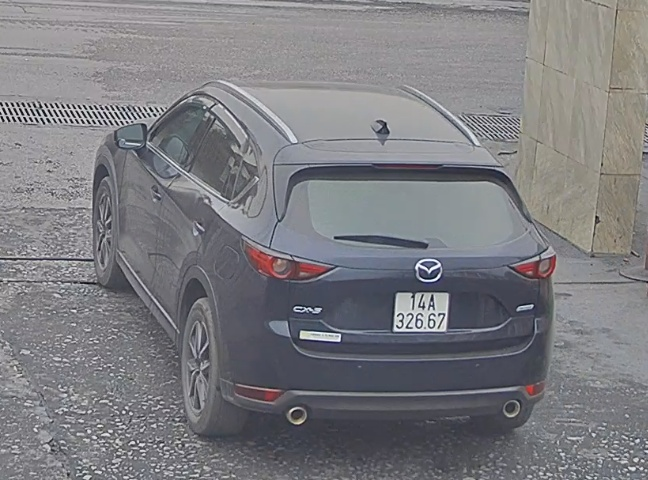vehicle plate: (391, 286, 450, 332)
